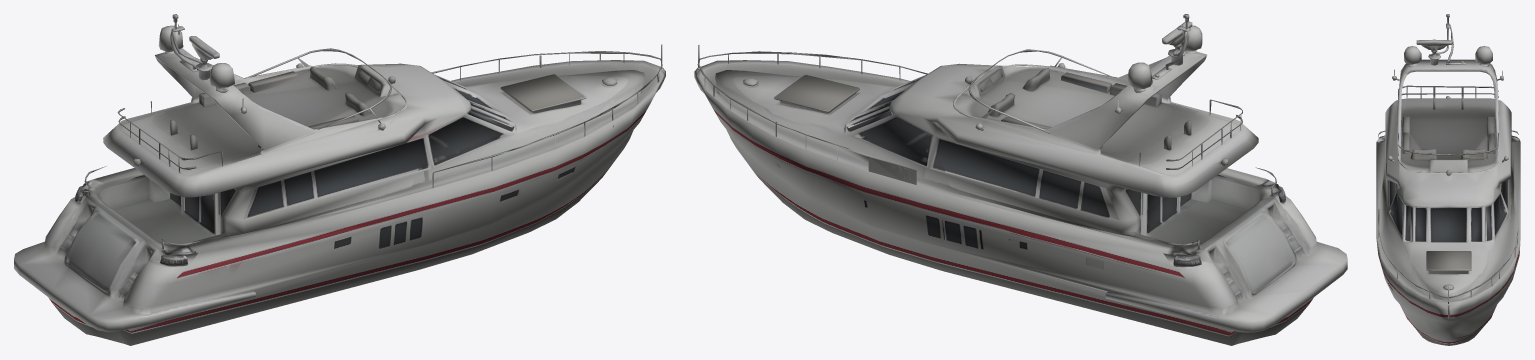
File: original_glb.glb
3 renders of one model, left to right at view 1: azimuth 30°, elevation 25°; view 2: azimuth 150°, elevation 25°; view 3: azimuth 270°, elevation 25°, orthographic. The views are drawn at different scales.
Visible parts, largest first — view 1: Yacht; view 2: Yacht; view 3: Yacht.
Part boxes in pixels (bbox=[...]): Yacht: bbox=[14, 14, 665, 345]; Yacht: bbox=[694, 14, 1347, 345]; Yacht: bbox=[1376, 14, 1520, 345].
Bounding box in the file's own units: 0.998 × 0.459 × 0.2871.
Materials: 1 (1 with a texture image).
